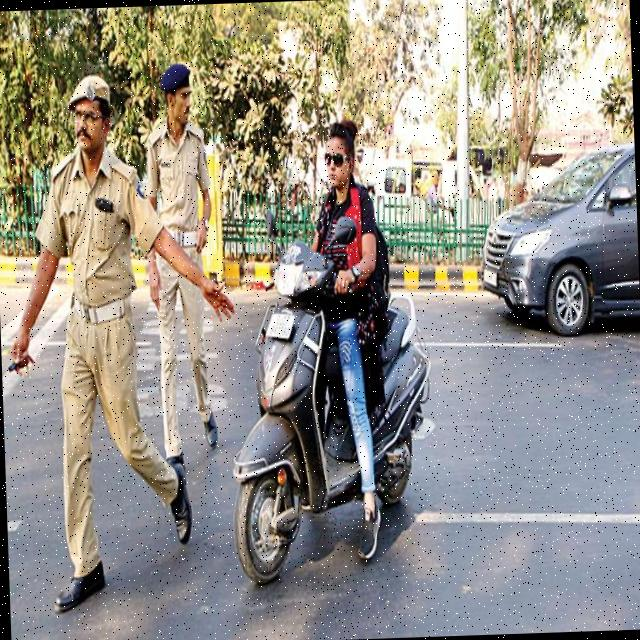No helmet: (310, 117, 371, 205)
